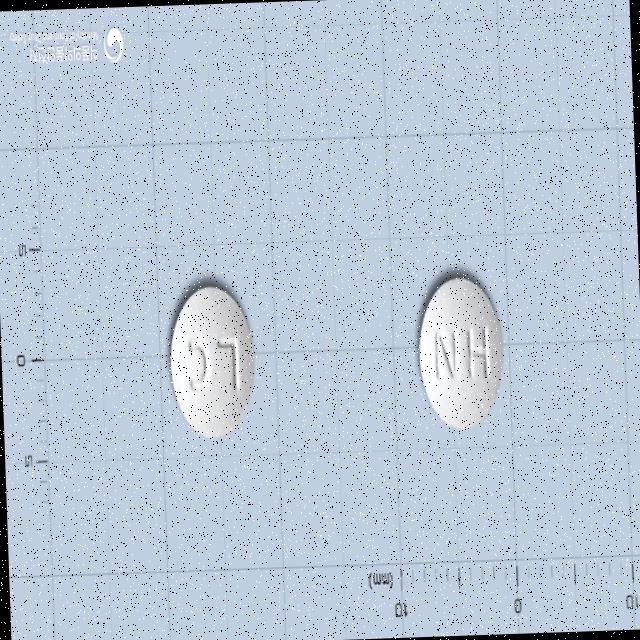Lenacin: (166, 285, 256, 442), (416, 276, 506, 432)
